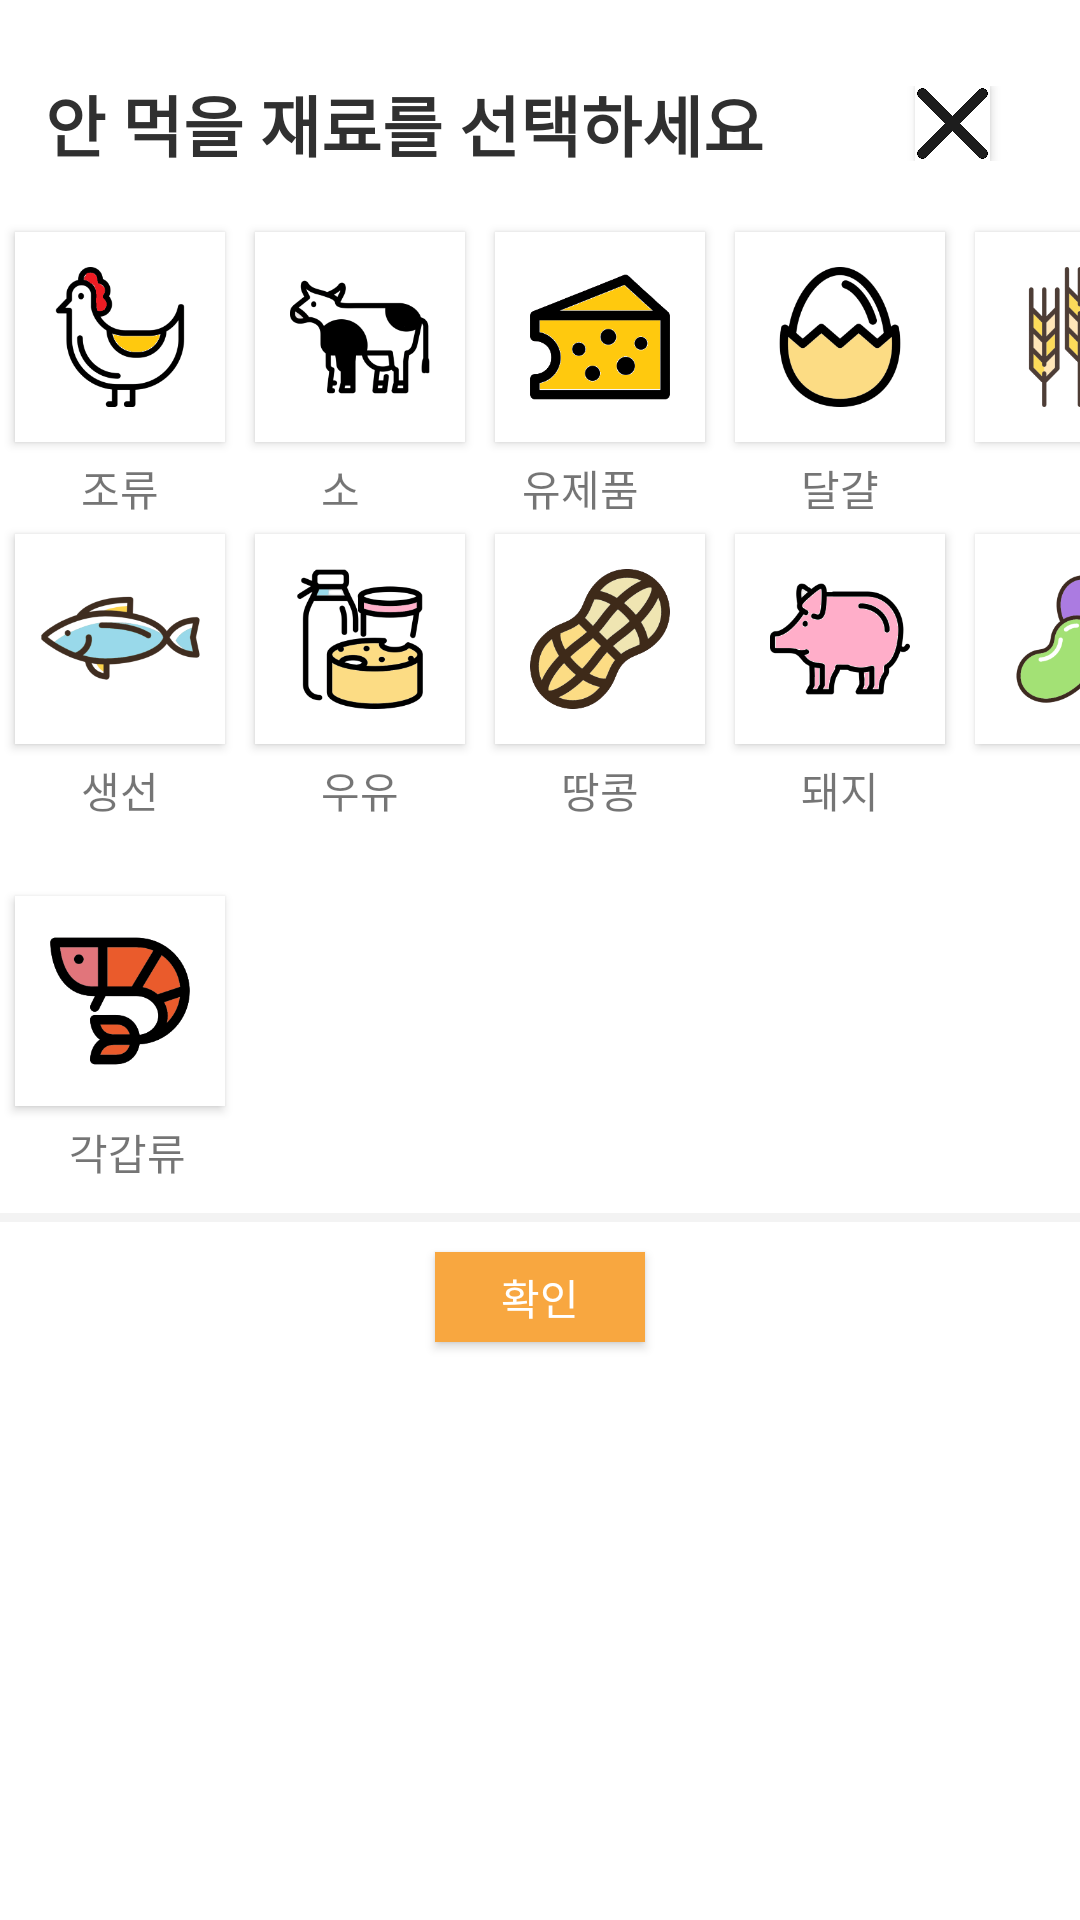

Where icons sit on this 1080x1920 app screen, as (x1, y1, x2, y2):
close: (917, 88, 988, 159)
